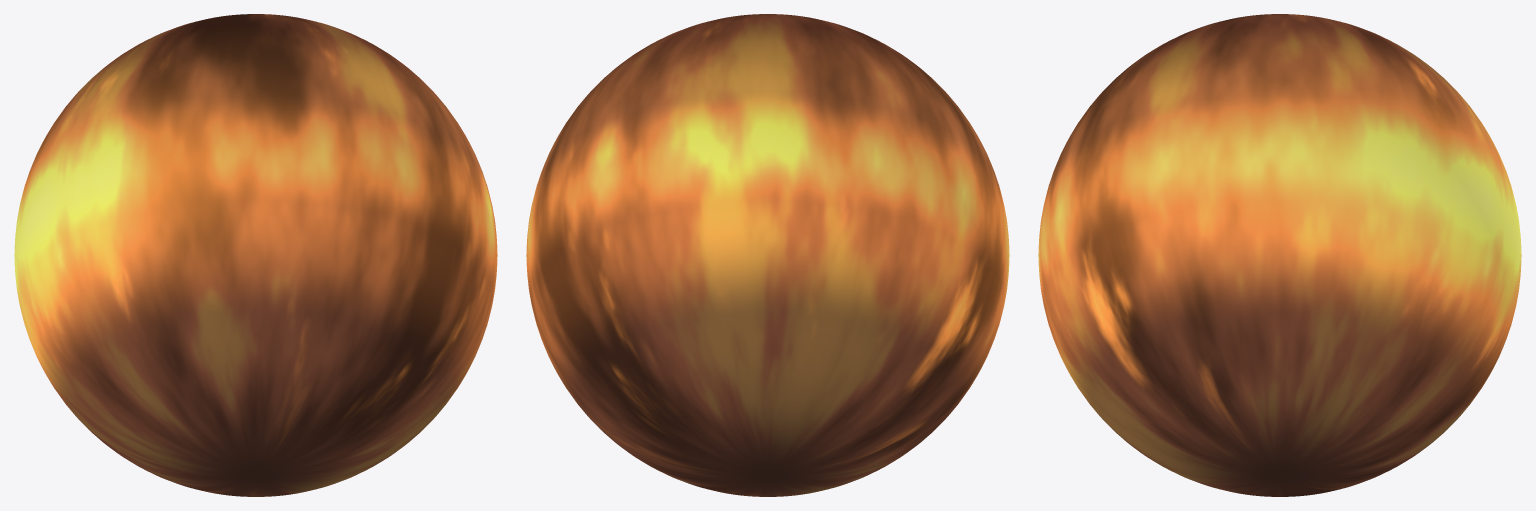
The model's file is sky-dome.glb.
3 views of the same model, side by side, from view 1: azimuth 30°, elevation 25°; view 2: azimuth 150°, elevation 25°; view 3: azimuth 270°, elevation 25° (orthographic).
Visible parts, largest first — view 1: sky-dome; view 2: sky-dome; view 3: sky-dome.
Boxes of the visible parts, <box> form: sky-dome: <box>14,14,497,496</box>; sky-dome: <box>526,14,1009,496</box>; sky-dome: <box>1038,14,1521,496</box>.
Size of the model in its own units: 2 by 2 by 2.
1 material, 1 textured.
